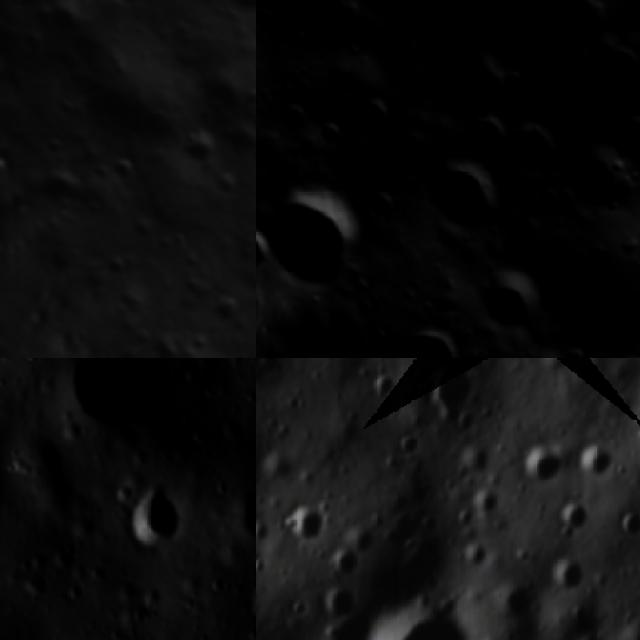crater: (256, 168, 387, 309), (412, 146, 514, 251), (547, 134, 640, 237), (471, 260, 563, 351), (446, 52, 532, 136), (510, 72, 586, 148), (502, 115, 575, 188), (323, 0, 446, 42), (118, 482, 188, 554), (540, 0, 617, 58), (366, 598, 471, 640), (582, 34, 640, 103), (460, 104, 522, 167), (347, 87, 410, 147), (387, 316, 476, 358), (166, 110, 226, 170), (357, 180, 417, 238), (425, 362, 476, 420), (98, 144, 149, 195), (520, 444, 570, 486), (305, 117, 351, 161), (281, 504, 329, 546), (554, 493, 592, 541), (271, 97, 314, 138), (497, 584, 535, 629), (46, 237, 81, 280), (320, 585, 363, 620), (308, 619, 379, 640), (580, 445, 614, 480), (553, 556, 584, 592), (370, 371, 400, 406), (239, 90, 256, 151), (0, 137, 22, 183), (332, 548, 363, 580), (470, 487, 499, 518), (458, 448, 488, 477), (457, 544, 488, 572), (213, 0, 256, 20), (398, 436, 420, 460), (619, 515, 640, 538), (247, 573, 256, 616)
